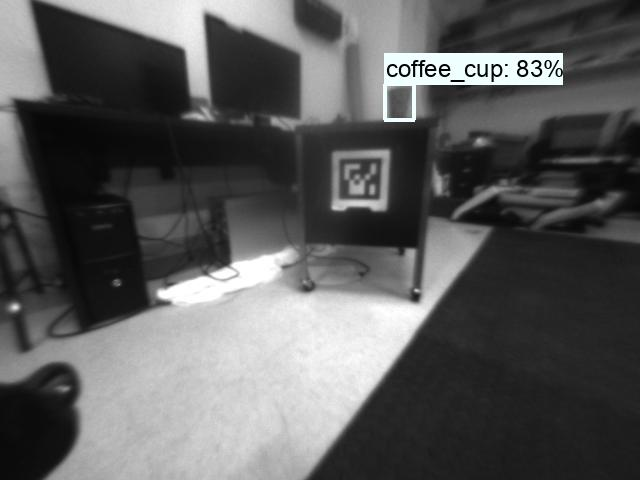coffee_cup: (384, 85, 413, 119)
